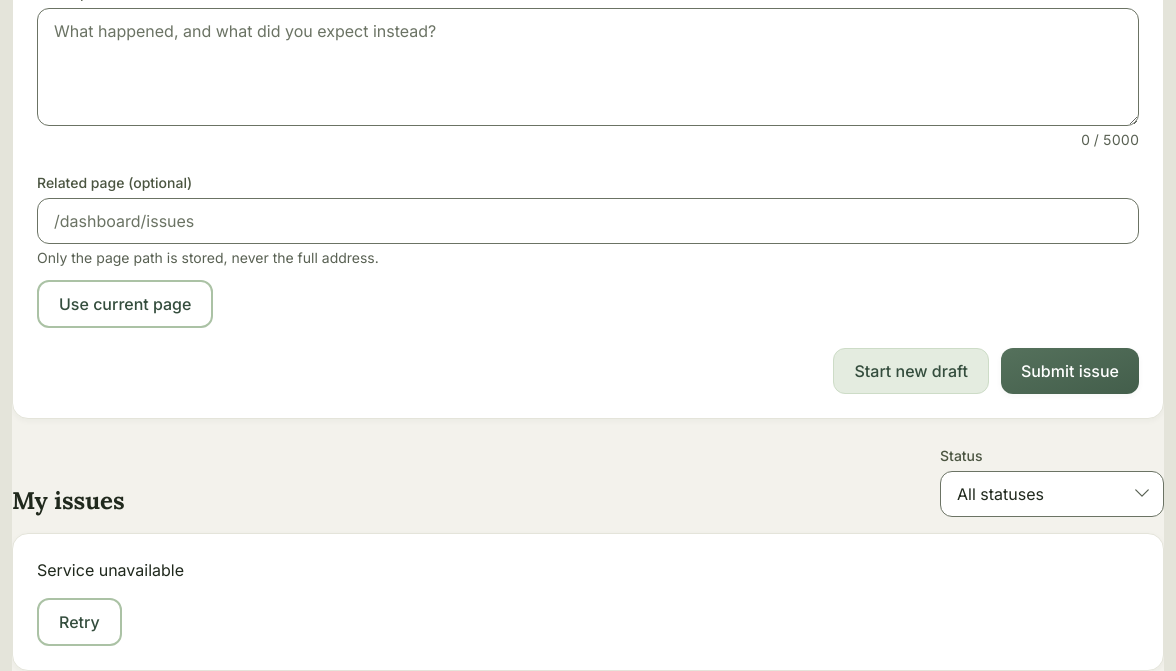
Test: ReportIssuePage.vue › retries a failed history load without losing the status filter
This screenshot has width=1176, height=671.
(page scrolled)
Click the button with test id "issues-retry".
click(79, 622)  # box top-left (37, 598), bottom-right (122, 646)
(page scrolled)
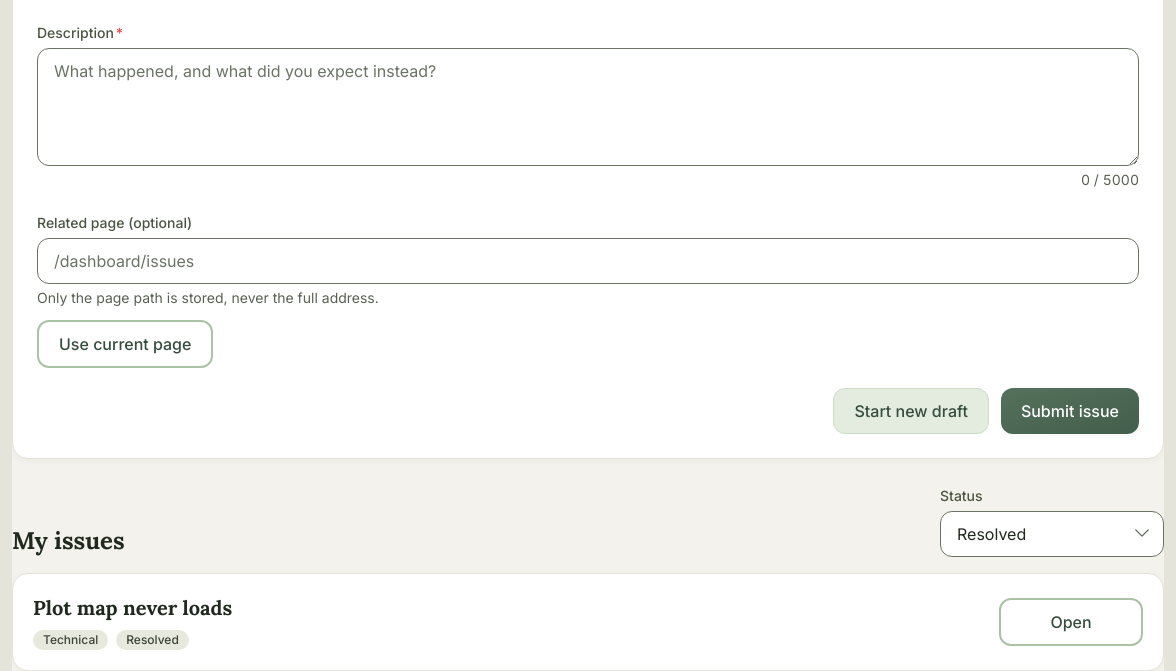
Result: the text "Plot map never loads" is shown at top-left (33, 594), bottom-right (232, 622)
Result: the dropdown labelled "Status" shows "Resolved" at top-left (940, 511), bottom-right (1164, 557)
